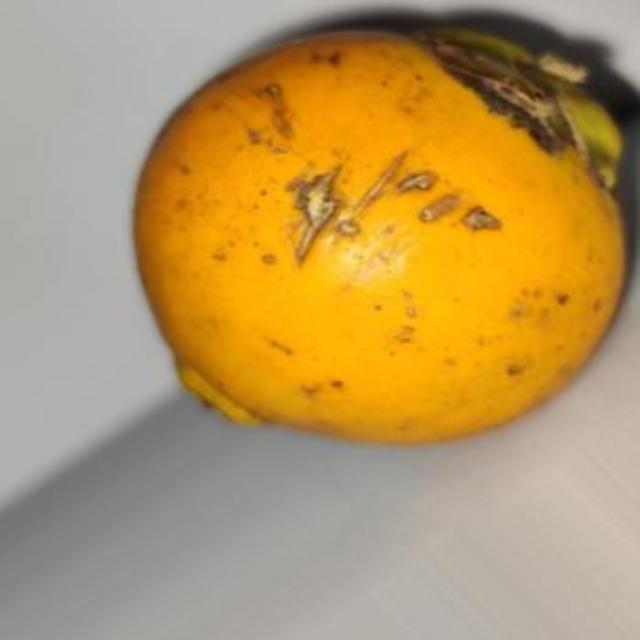good: (130, 26, 631, 448)
